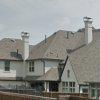Chimney: (15, 23, 37, 58)
